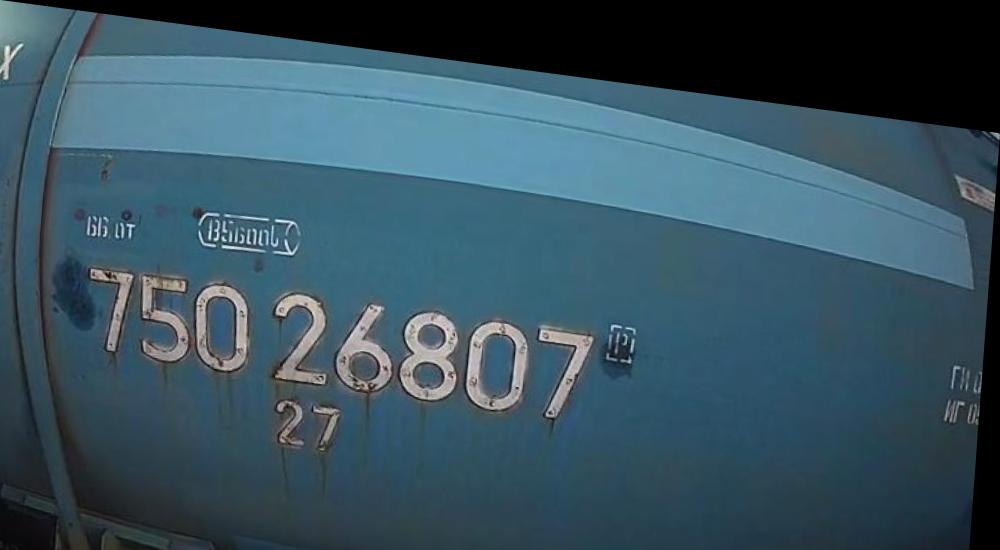Wagon-number: (82, 257, 609, 420)
